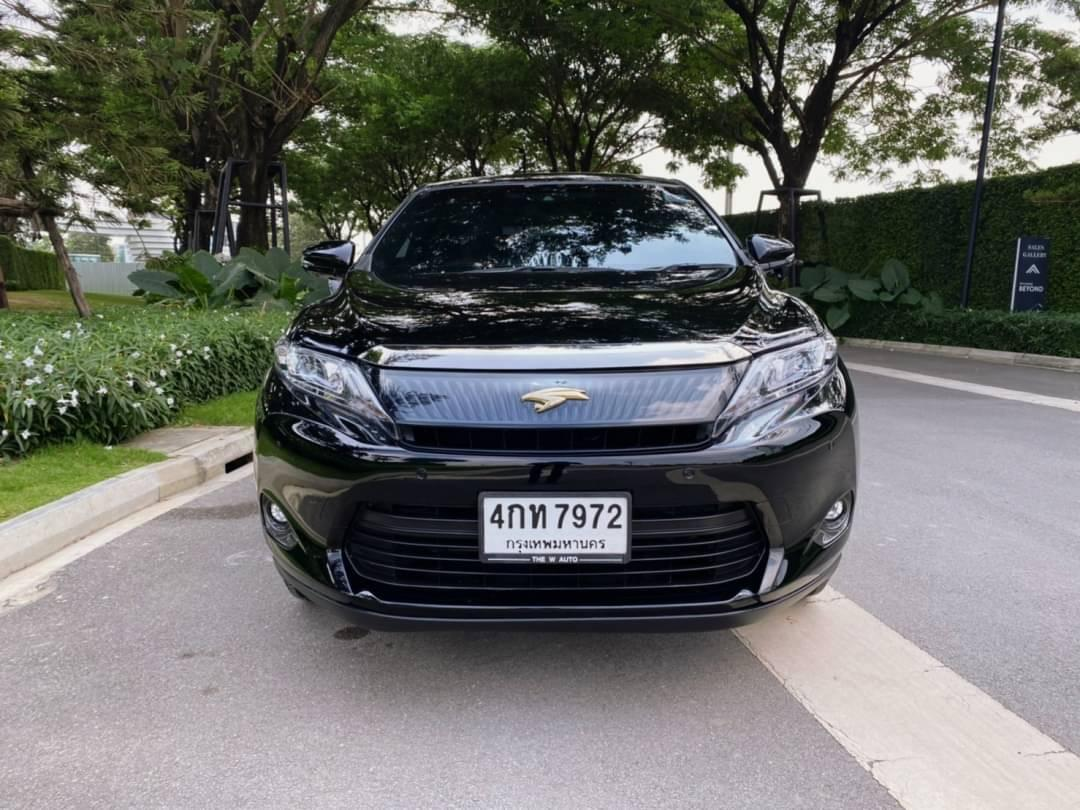license-plate: (475, 487, 634, 570)
